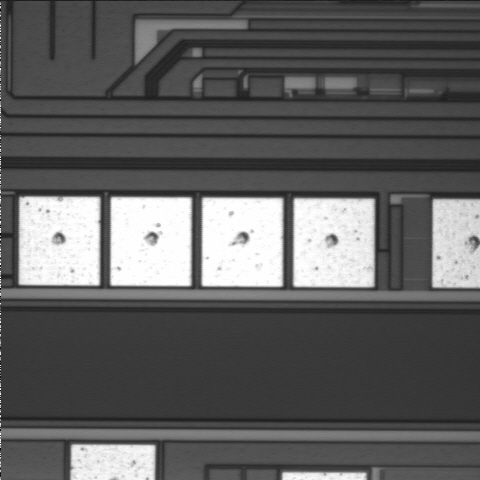pad: (110, 197, 192, 286), (202, 198, 283, 287), (293, 198, 374, 287), (19, 197, 100, 285)
